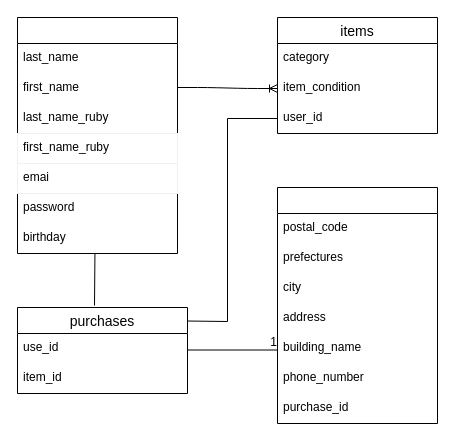
This 455x444 diagram has some shape labels left out. The box of each missing label's shape, as (x1, y1, x2, y2) in pixels:
shipping_addresses: (276, 186, 438, 424)
users: (16, 16, 178, 254)
